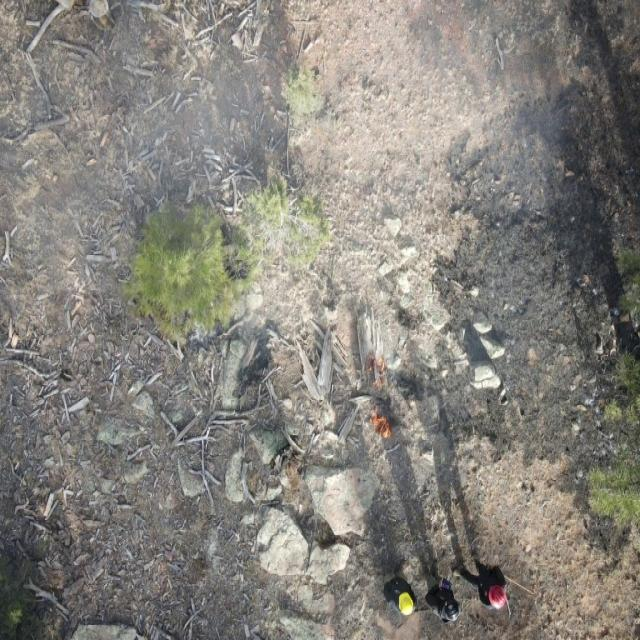fire: (362, 348, 392, 392), (366, 406, 396, 442)
smoke: (296, 39, 552, 384), (28, 28, 299, 338)
